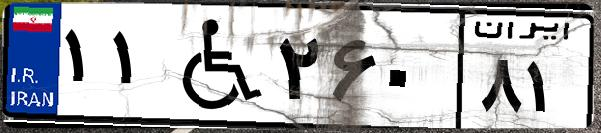0: (385, 28, 445, 110)
1: (57, 26, 110, 100), (525, 38, 570, 115), (110, 28, 158, 98)
2: (270, 28, 330, 110)
6: (330, 28, 385, 110)
8: (475, 38, 525, 113)
ژ (معلولین و جانبازان): (158, 12, 270, 120)
